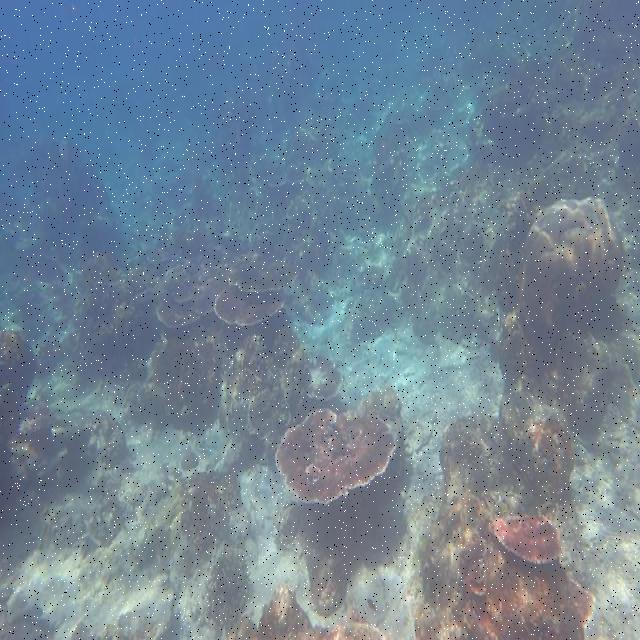reefs: (388, 389, 597, 639), (518, 197, 626, 341), (276, 384, 403, 505), (154, 258, 230, 329), (228, 250, 300, 292), (215, 285, 288, 326)
